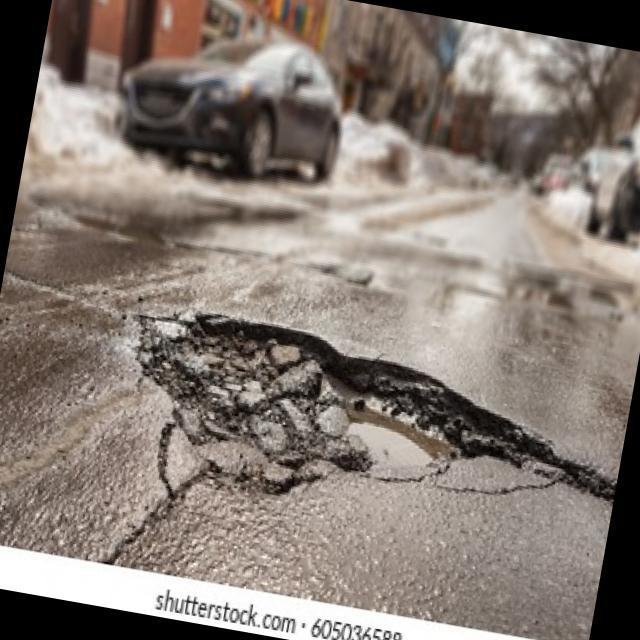Pothole: (106, 294, 554, 544)
